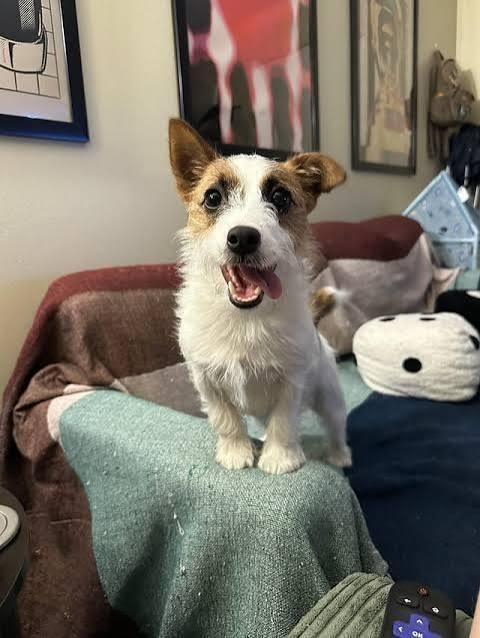adult_dog: (165, 114, 353, 477)
